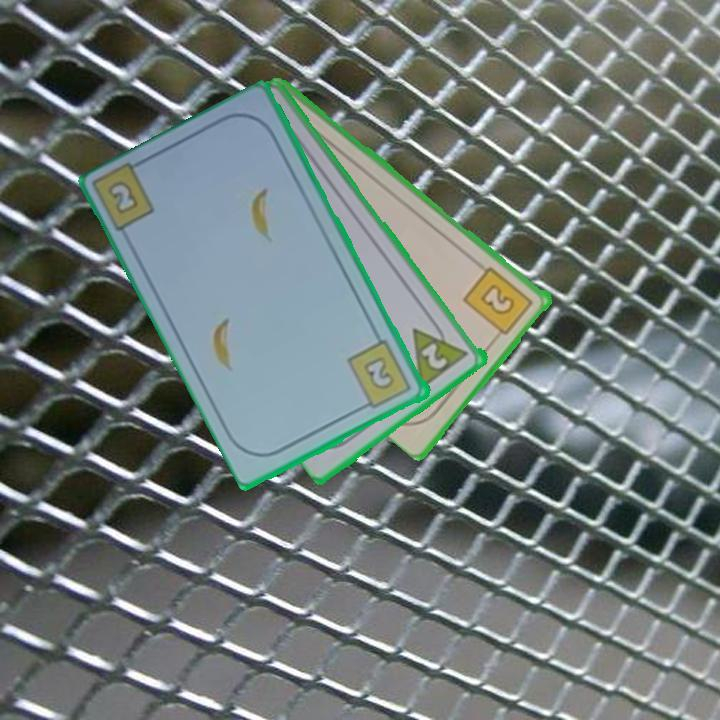2b: (460, 263, 537, 342), (344, 337, 415, 413), (104, 177, 143, 218)
2p: (409, 312, 472, 391)
